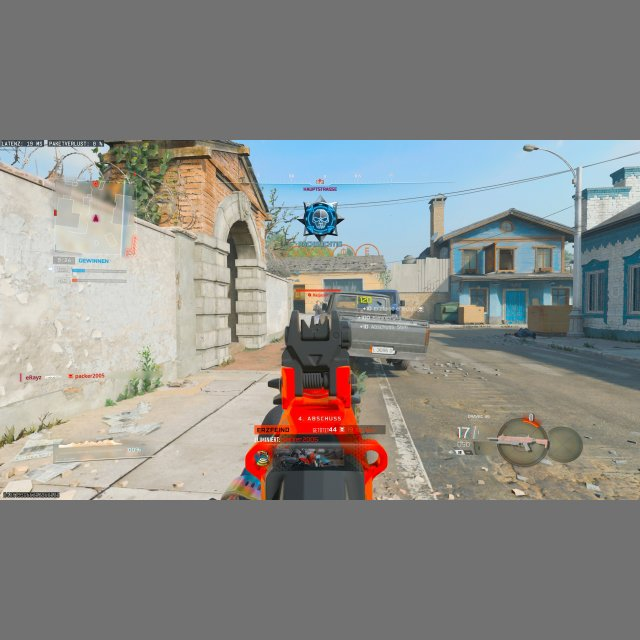player: (312, 300, 328, 321)
